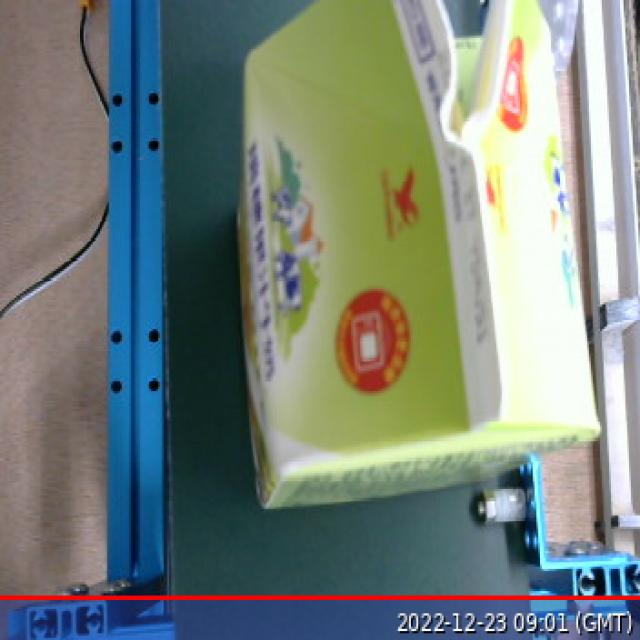non_white_jug: (226, 0, 615, 534)
